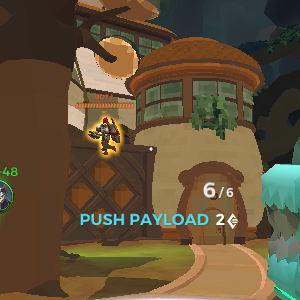model: (91, 114, 118, 154)
